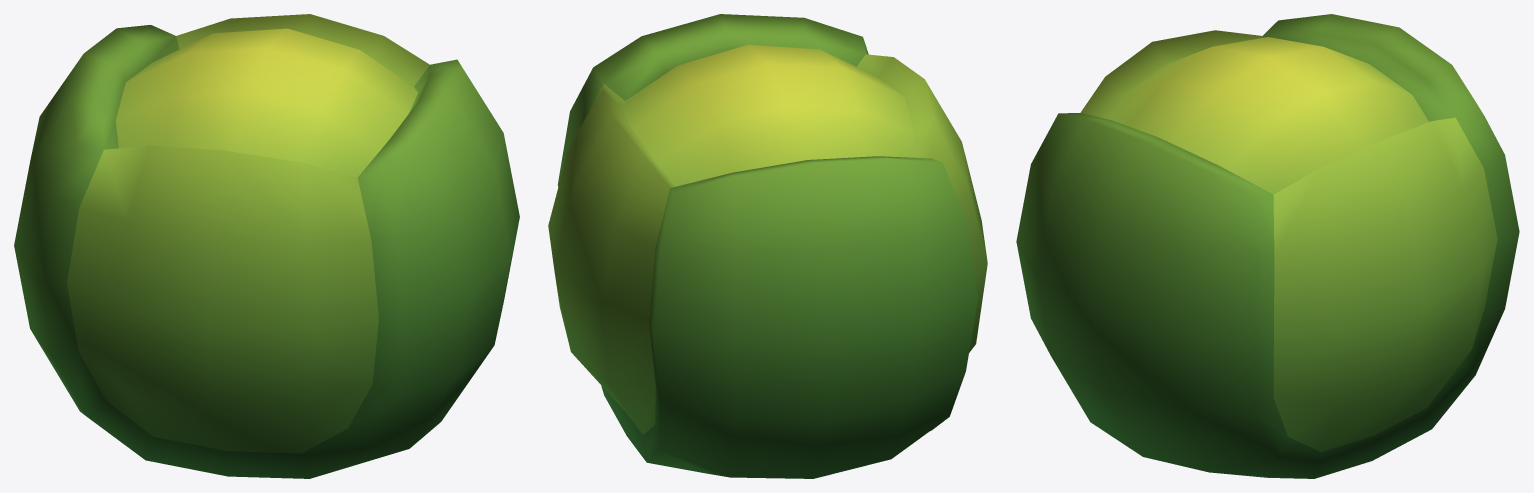
The model's file is Cabbage_01.glb.
3 views of the same model, side by side, from view 1: azimuth 30°, elevation 25°; view 2: azimuth 150°, elevation 25°; view 3: azimuth 270°, elevation 25° (orthographic). The views are drawn at different scales.
Visible parts, largest first — view 1: Cabbage_01; view 2: Cabbage_01; view 3: Cabbage_01.
Part boxes in pixels (x1=…): Cabbage_01: x1=14, y1=14, x2=519, y2=478; Cabbage_01: x1=548, y1=14, x2=987, y2=478; Cabbage_01: x1=1016, y1=14, x2=1519, y2=478.
Bounding box in the file's own units: 0.5727 × 0.4769 × 0.5727.
Materials: 1 (1 with a texture image).
